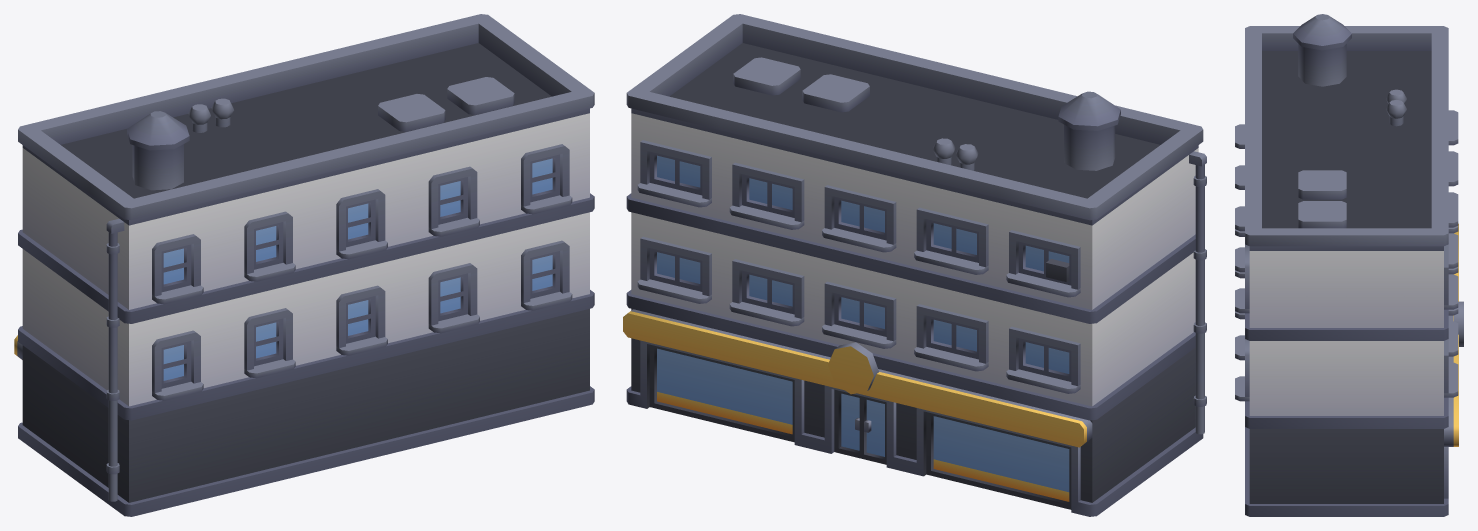
The model's file is k_c_building-k.glb.
The picture shows the model from 3 angles, left to right: view 1: azimuth 30°, elevation 25°; view 2: azimuth 150°, elevation 25°; view 3: azimuth 270°, elevation 25°; orthographic projection. The views are drawn at different scales.
Parts seen in each view (by area): view 1: building-k; view 2: building-k; view 3: building-k.
Part boxes in pixels (left/top/right/bottom): building-k: left=14, top=14, right=594, bottom=516; building-k: left=623, top=14, right=1206, bottom=516; building-k: left=1235, top=14, right=1463, bottom=516.
Bounding box in the file's own units: 2.08 × 1.47 × 0.942.
1 material, 1 textured.
